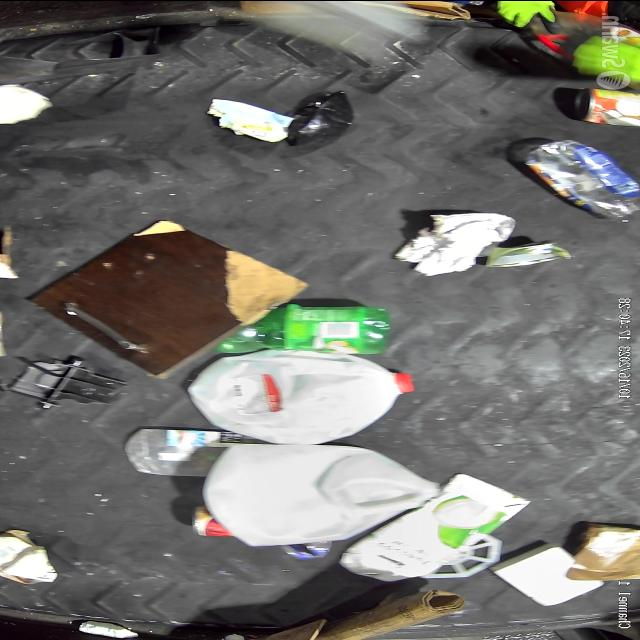can: (476, 239, 576, 265)
milk_jug: (200, 444, 444, 542), (184, 346, 426, 440)
plastic_bottle: (532, 142, 640, 220)
